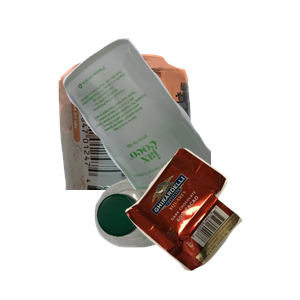glass: (60, 36, 300, 216)
metal: (56, 52, 242, 232)
plastic: (92, 176, 257, 300)
trash: (123, 145, 300, 300)
